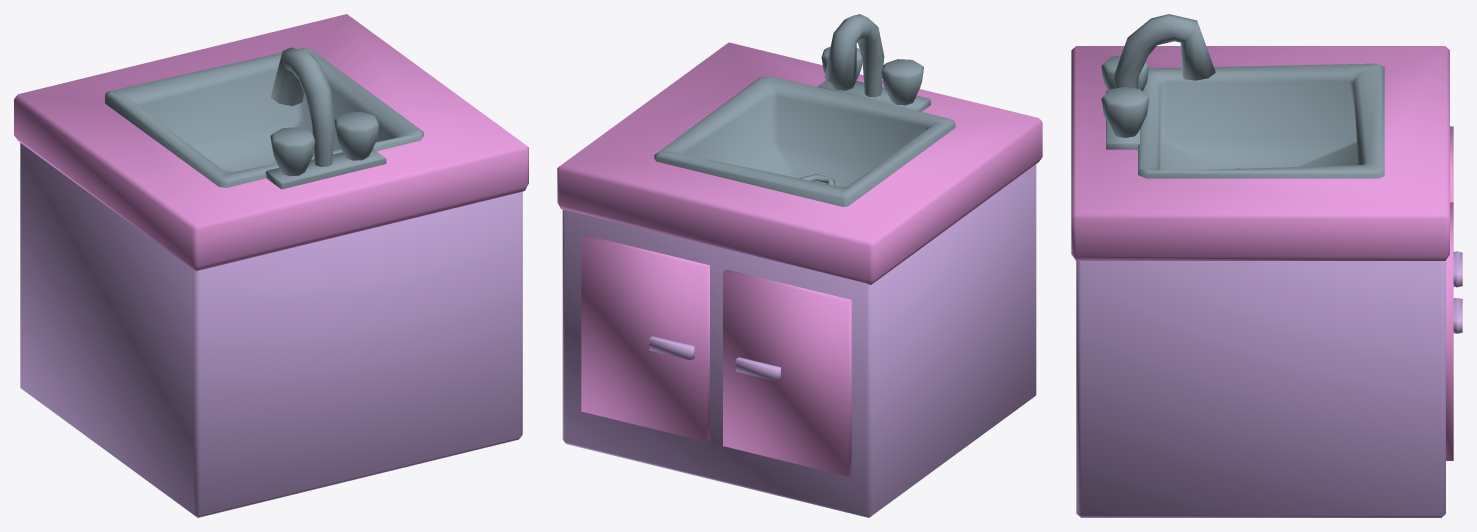
File: props_sink.fbx
3 views of the same model, side by side, from view 1: azimuth 30°, elevation 25°; view 2: azimuth 150°, elevation 25°; view 3: azimuth 270°, elevation 25° (orthographic). The views are drawn at different scales.
Visible parts, largest first — view 1: Cube.107; view 2: Cube.107; view 3: Cube.107.
Part boxes in pixels (box(x1,y1,x2,y2)): Cube.107: box(14, 14, 528, 517); Cube.107: box(557, 14, 1042, 517); Cube.107: box(1071, 14, 1462, 517).
Size of the model in its own units: 1.29 by 1.25 by 1.46.
